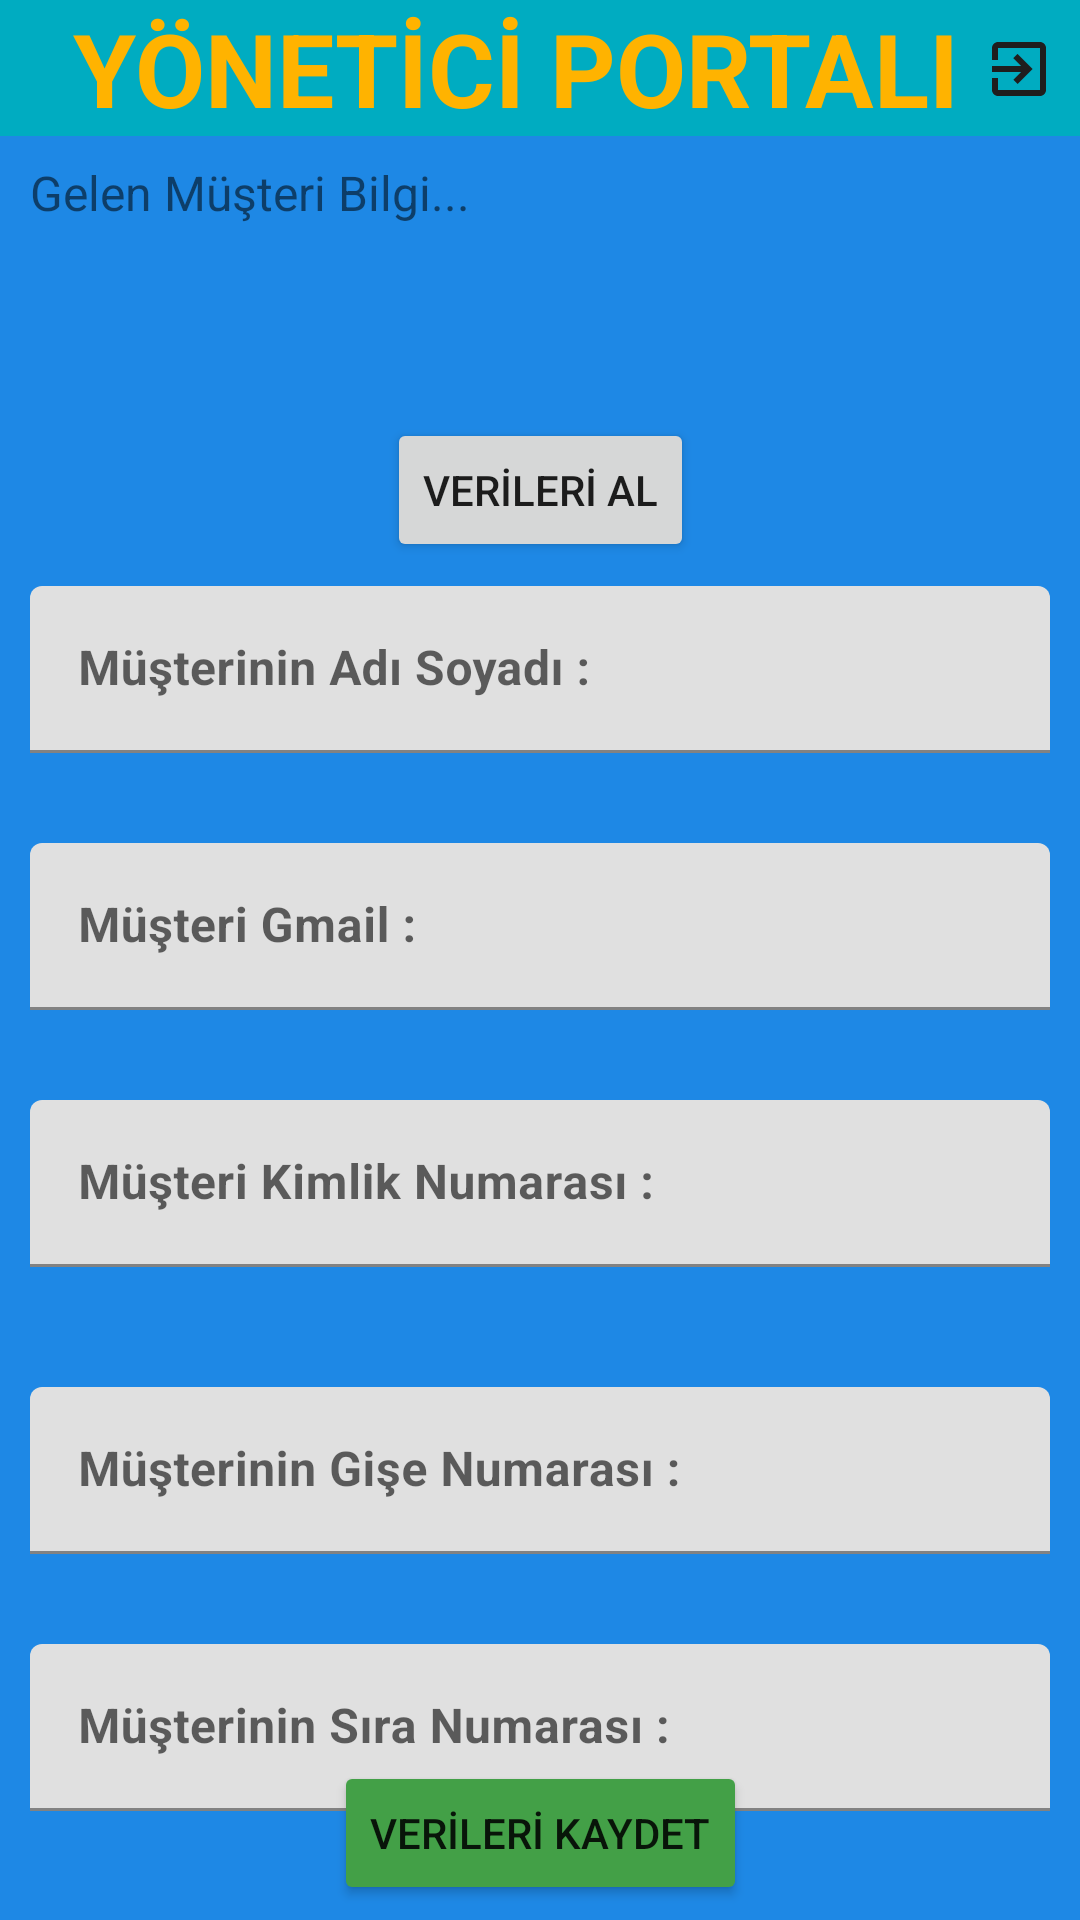

Where icons sit on this 1080 x 1920 app screen, as (x1, y1, x2, y2):
exit: (992, 42, 1046, 96)
